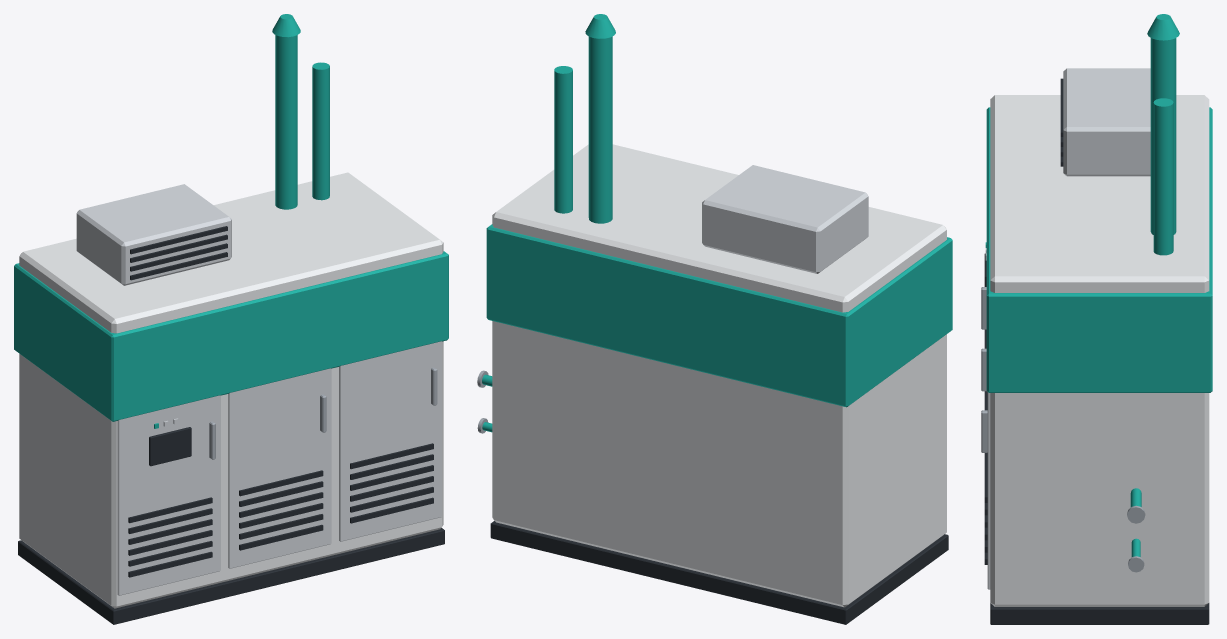
Rendered from hydrogen-generator.glb.
The picture shows the model from 3 angles, left to right: view 1: azimuth 30°, elevation 25°; view 2: azimuth 150°, elevation 25°; view 3: azimuth 270°, elevation 25°; orthographic projection. The views are drawn at different scales.
Parts seen in each view (by area): view 1: hydrogen-generator; view 2: hydrogen-generator; view 3: hydrogen-generator.
Boxes of the visible parts, x1,y1,x2,y2 form: hydrogen-generator: (14, 14, 448, 624); hydrogen-generator: (477, 14, 952, 624); hydrogen-generator: (981, 14, 1212, 624).
Bounding box in the file's own units: 2.71 × 3.4 × 1.27.
